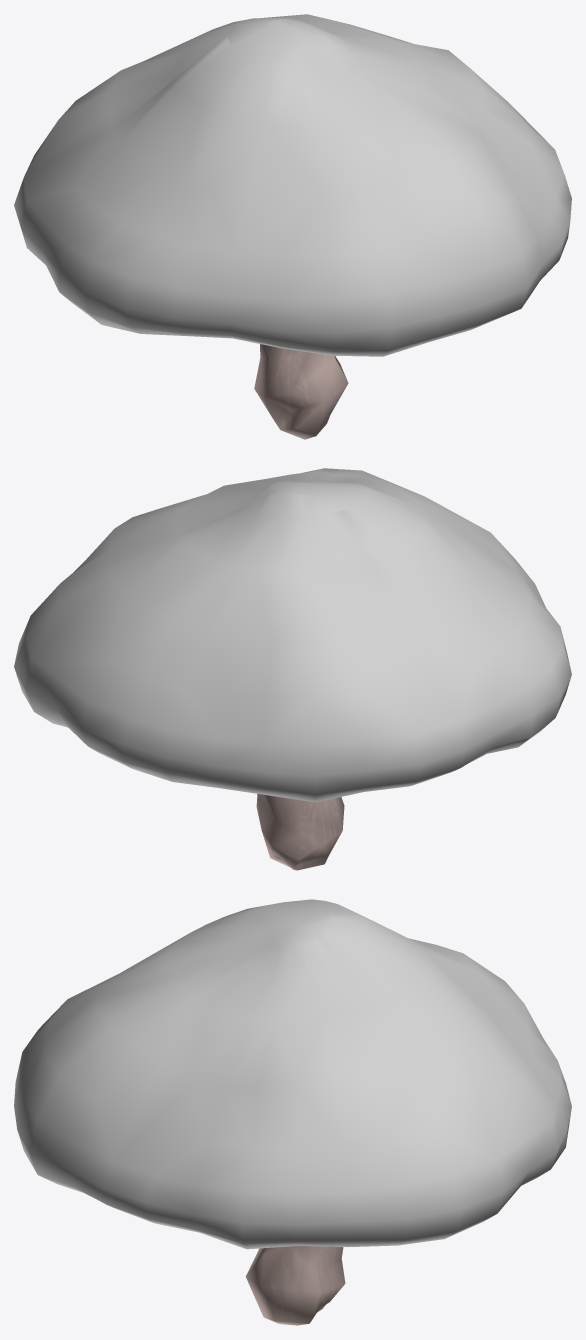
The model's file is mushroom_1.fbx.
The picture shows the model from 3 angles, top to bottom: view 1: azimuth 30°, elevation 25°; view 2: azimuth 150°, elevation 25°; view 3: azimuth 270°, elevation 25°; orthographic projection. The views are drawn at different scales.
Parts seen in each view (by area): view 1: Mushroom_Umbrella, Mushroom_Column; view 2: Mushroom_Umbrella, Mushroom_Column; view 3: Mushroom_Umbrella, Mushroom_Column.
Part boxes in pixels (x1,y1,x2,y2): Mushroom_Umbrella: (14, 14, 571, 356); Mushroom_Column: (254, 344, 348, 439); Mushroom_Umbrella: (14, 468, 571, 802); Mushroom_Column: (256, 794, 344, 870); Mushroom_Umbrella: (14, 899, 571, 1249); Mushroom_Column: (245, 1246, 345, 1325).
Size of the model in its own units: 213 by 170 by 212.
